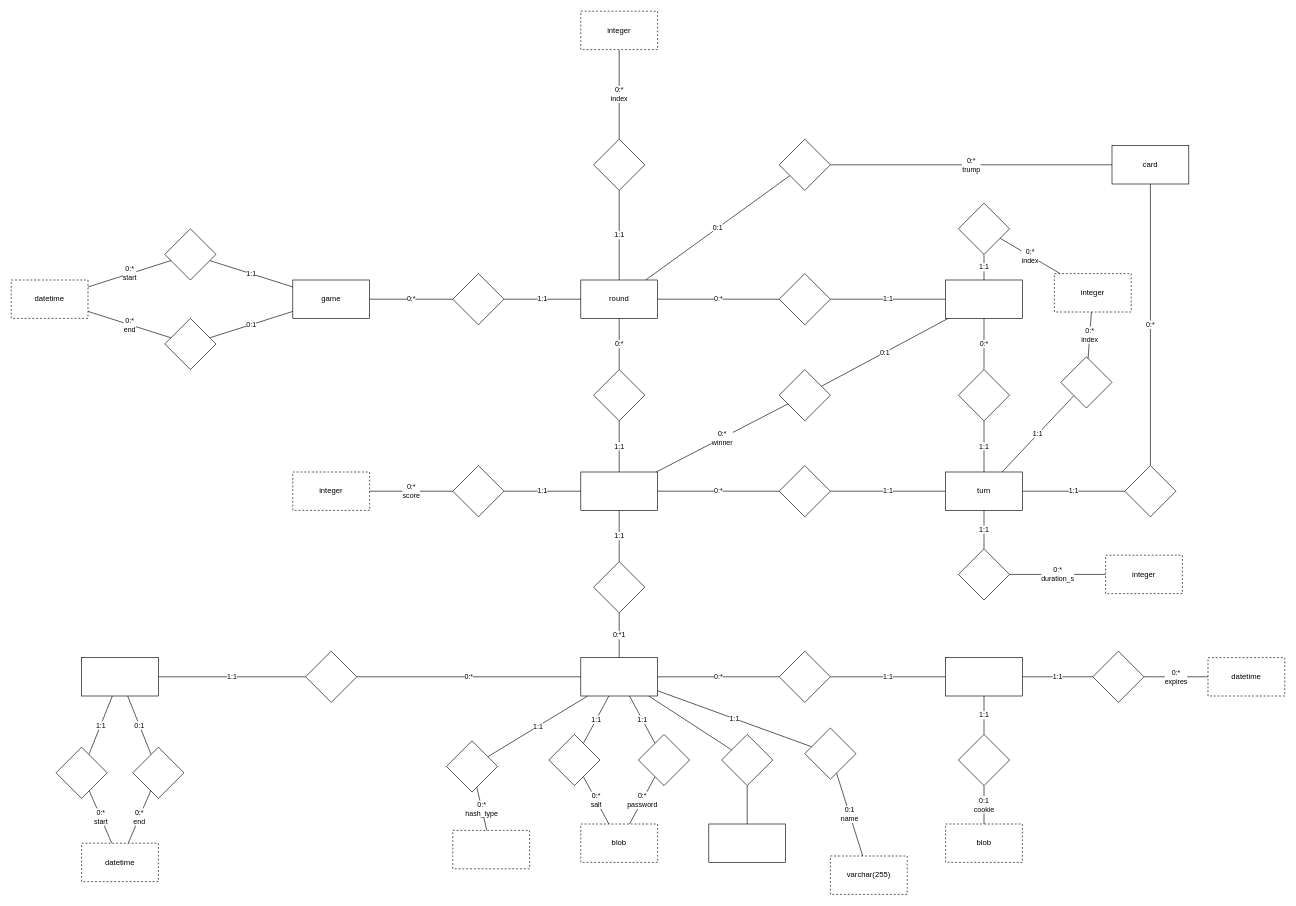
Some shapes in this 1296 by 906 pixel diagram are drawn without their labels. The centre of each missing label's shape, as x and y in pixels:
appointment: (119,676)
id: (747,842)
round_user: (619,490)
session: (983,676)
trick: (983,298)
user: (619,676)
varchar(8): (491,849)
